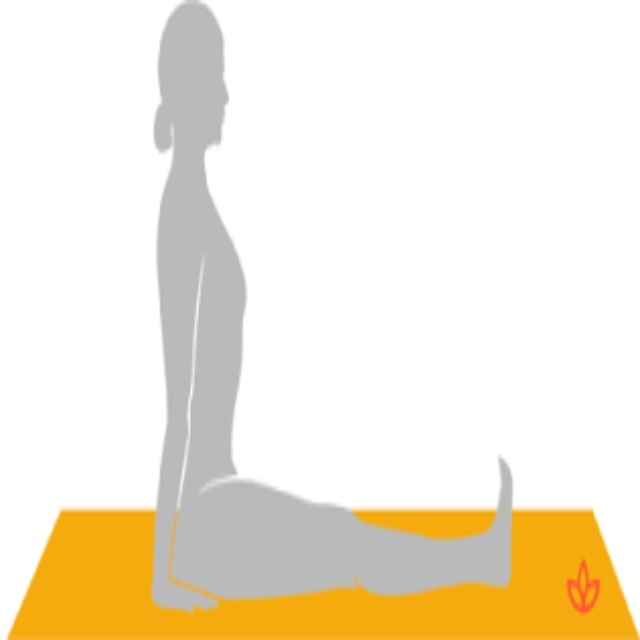Staff_Pose: (146, 4, 514, 611)
